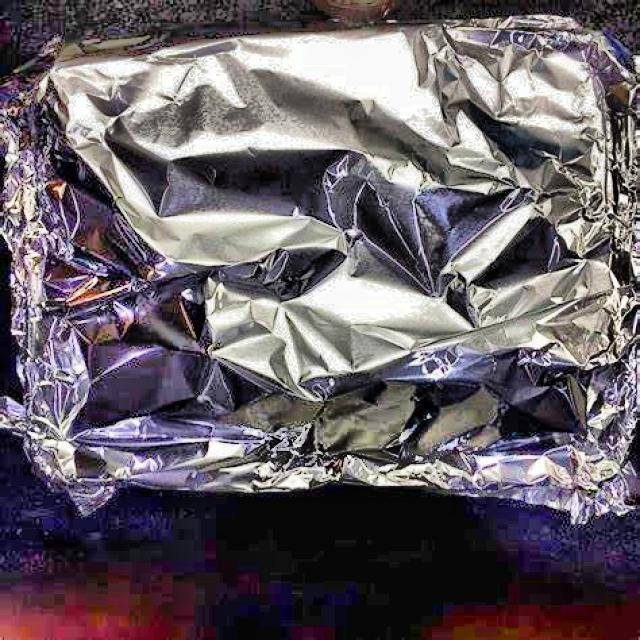Foil: (2, 12, 640, 530)
